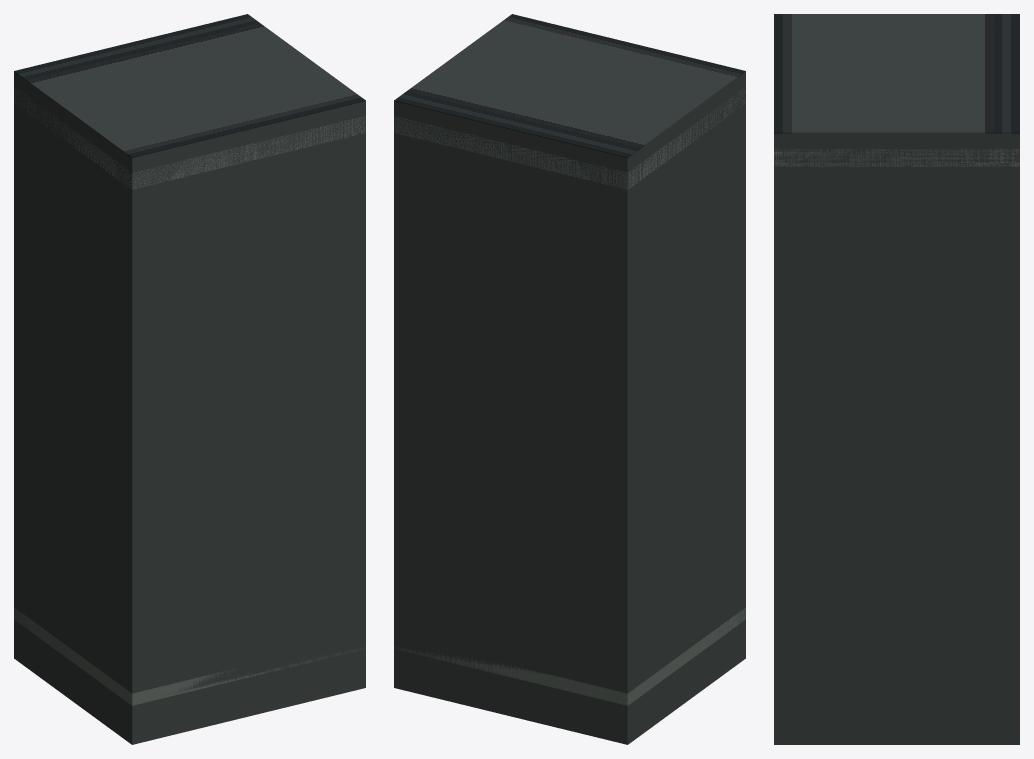
File: CMU3DInteriorVehicleTankWall.glb
The picture shows the model from 3 angles, left to right: view 1: azimuth 30°, elevation 25°; view 2: azimuth 150°, elevation 25°; view 3: azimuth 270°, elevation 25°; orthographic projection. The views are drawn at different scales.
Parts seen in each view (by area): view 1: cabin bulkhead, cabin bulkhead source finish, upper armor trim, lower armor trim; view 2: cabin bulkhead, cabin bulkhead source finish, upper armor trim, lower armor trim; view 3: cabin bulkhead, cabin bulkhead source finish, upper armor trim.
Part boxes in pixels (x1,y1,x2,y2): cabin bulkhead: [14, 72, 365, 744]; cabin bulkhead source finish: [14, 14, 365, 157]; upper armor trim: [14, 87, 365, 189]; lower armor trim: [14, 607, 365, 705]; cabin bulkhead: [394, 72, 745, 744]; cabin bulkhead source finish: [394, 14, 745, 157]; upper armor trim: [394, 88, 745, 189]; lower armor trim: [394, 607, 745, 705]; cabin bulkhead: [774, 133, 1019, 744]; cabin bulkhead source finish: [774, 14, 1019, 133]; upper armor trim: [774, 149, 1019, 166].
Size of the model in its own units: 1 by 2.4 by 0.875.
Materials: 4 (1 with a texture image).
